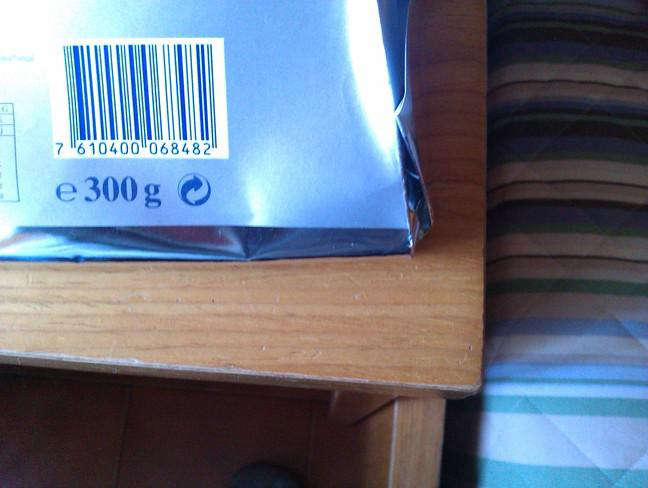Barkod: (47, 40, 226, 156)
